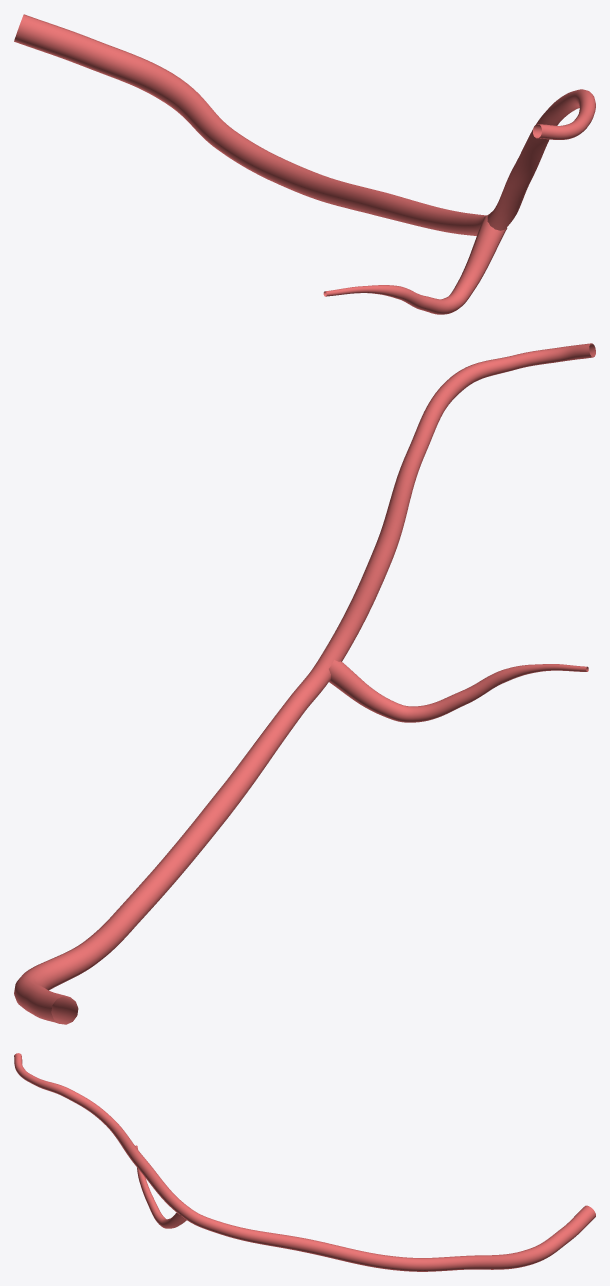
File: Orbitofrontal_branches_anterior_cerebral_artery_right.glb
The picture shows the model from 3 angles, top to bottom: view 1: azimuth 30°, elevation 25°; view 2: azimuth 150°, elevation 25°; view 3: azimuth 270°, elevation 25°; orthographic projection. The views are drawn at different scales.
Parts seen in each view (by area): view 1: Orbitofrontal_branches_of_anterior_cerebral_artery.r_BezierC; view 2: Orbitofrontal_branches_of_anterior_cerebral_artery.r_BezierC; view 3: Orbitofrontal_branches_of_anterior_cerebral_artery.r_BezierC.
Part boxes in pixels (bbox=[...]): Orbitofrontal_branches_of_anterior_cerebral_artery.r_BezierC: bbox=[14, 14, 595, 314]; Orbitofrontal_branches_of_anterior_cerebral_artery.r_BezierC: bbox=[14, 343, 595, 1024]; Orbitofrontal_branches_of_anterior_cerebral_artery.r_BezierC: bbox=[14, 1053, 595, 1271].
Size of the model in its own units: 0.0147 by 0.0212 by 0.0586.
